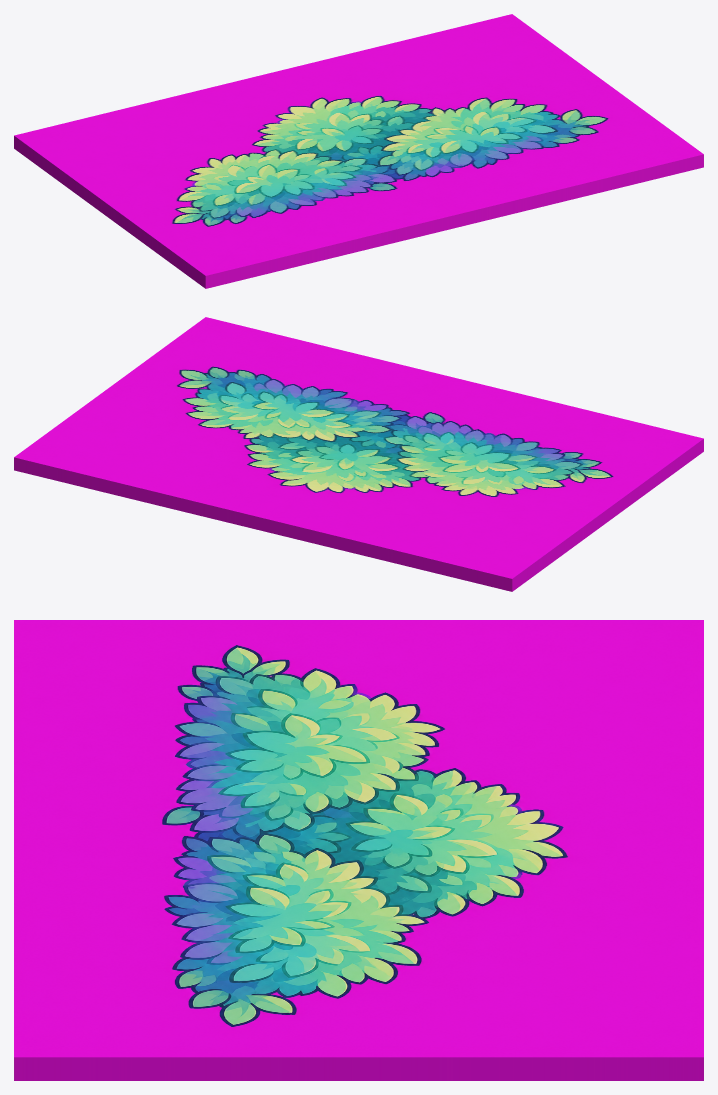
Rendered from k_bush2.glb.
3 views of the same model, one above another, from view 1: azimuth 30°, elevation 25°; view 2: azimuth 150°, elevation 25°; view 3: azimuth 270°, elevation 25° (orthographic). The views are drawn at different scales.
Parts seen in each view (by area): view 1: k_bush2; view 2: k_bush2; view 3: k_bush2.
Part boxes in pixels (left/top/right/bottom): k_bush2: left=14, top=14, right=703, bottom=288; k_bush2: left=14, top=317, right=703, bottom=591; k_bush2: left=14, top=620, right=703, bottom=1080.
Size of the model in its own units: 2 by 0.05 by 1.33.
1 material, 1 textured.
